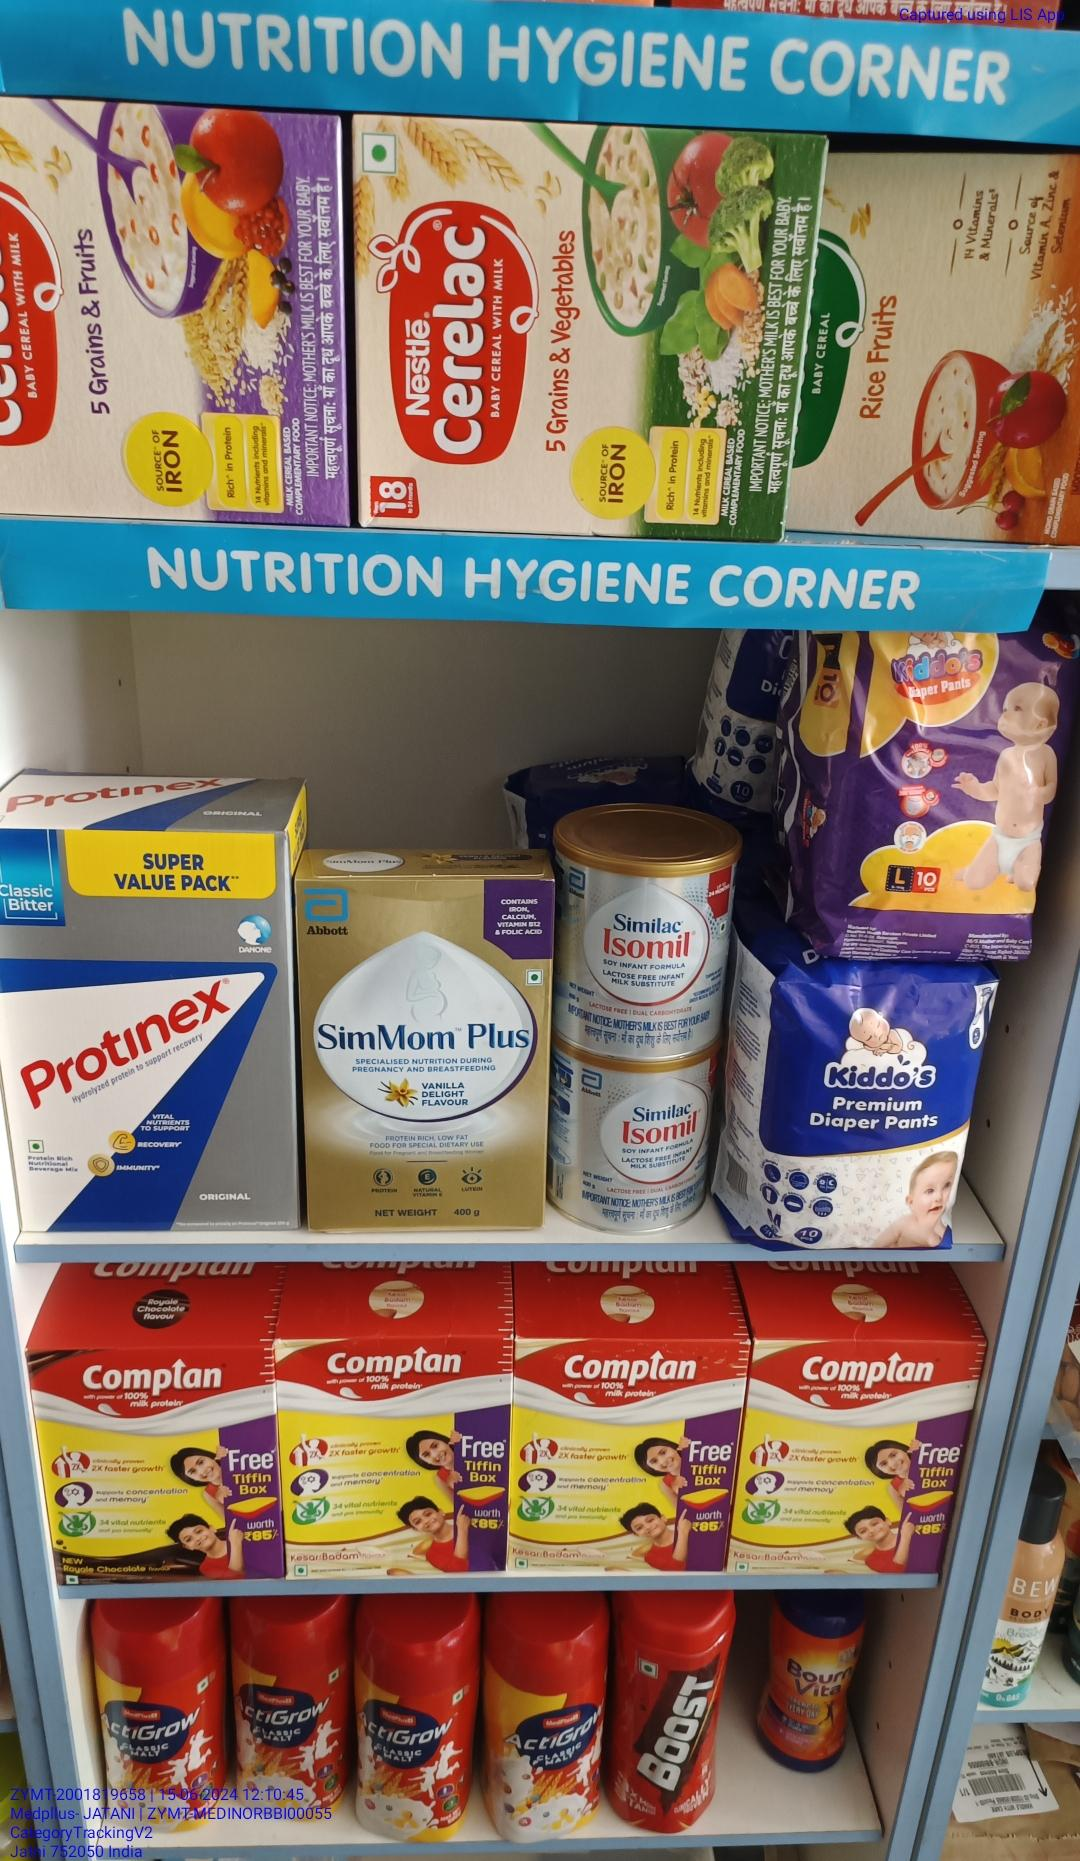BOURN_VITA_200_G_JAR: (764, 1599, 860, 1772)
COMPLAN_CHOCOLATE_500_GMS_PACK: (31, 1346, 278, 1578)
COMPLAN_KESAR_BADAM_500_GMS_PACK: (284, 1337, 504, 1573), (512, 1337, 729, 1572), (738, 1335, 950, 1573)
